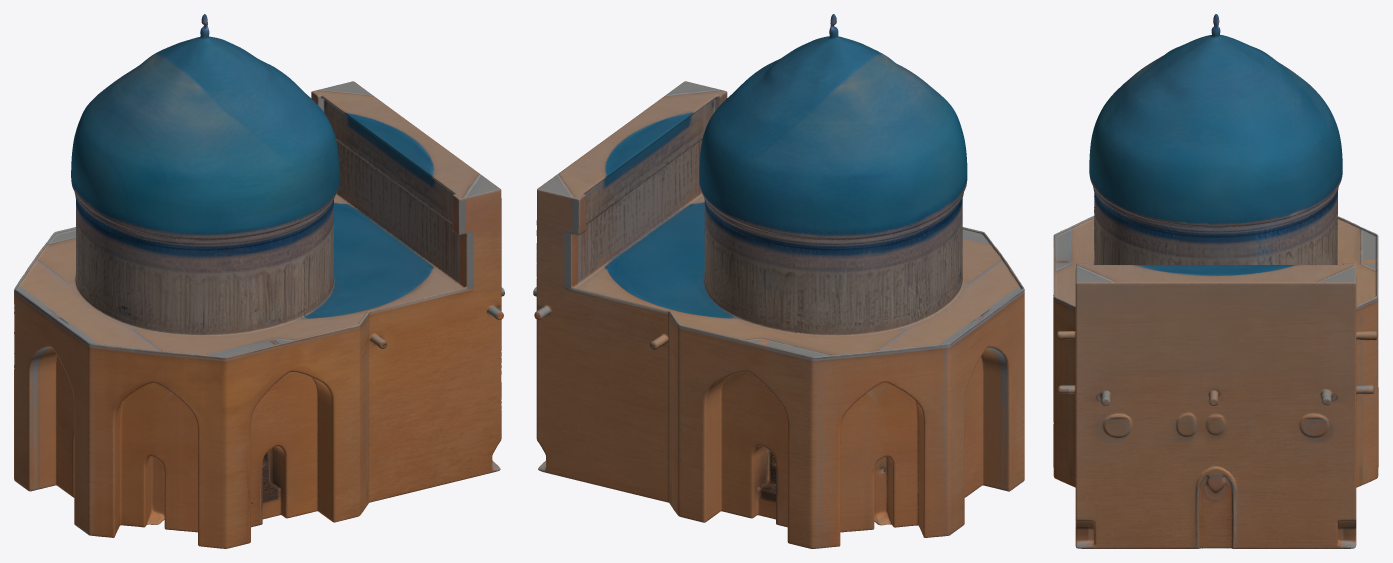
The model's file is turquoise+dome+3d+model.glb.
The picture shows the model from 3 angles, left to right: view 1: azimuth 30°, elevation 25°; view 2: azimuth 150°, elevation 25°; view 3: azimuth 270°, elevation 25°; orthographic projection. The views are drawn at different scales.
Parts seen in each view (by area): view 1: tripo_node_e0b7b877-84eb-4abb-ba3e-dae38dcab95b; view 2: tripo_node_e0b7b877-84eb-4abb-ba3e-dae38dcab95b; view 3: tripo_node_e0b7b877-84eb-4abb-ba3e-dae38dcab95b.
Boxes of the visible parts, x1=… form: tripo_node_e0b7b877-84eb-4abb-ba3e-dae38dcab95b: x1=14, y1=14, x2=504, y2=548; tripo_node_e0b7b877-84eb-4abb-ba3e-dae38dcab95b: x1=533, y1=14, x2=1024, y2=548; tripo_node_e0b7b877-84eb-4abb-ba3e-dae38dcab95b: x1=1053, y1=14, x2=1378, y2=548.
Size of the model in its own units: 0.9019 by 1 by 0.6816.
1 material, 1 textured.
